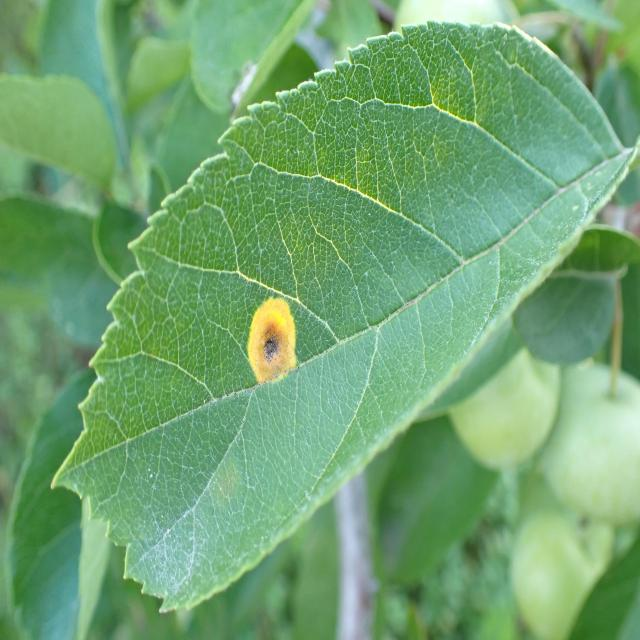Rust: (240, 272, 302, 408)
